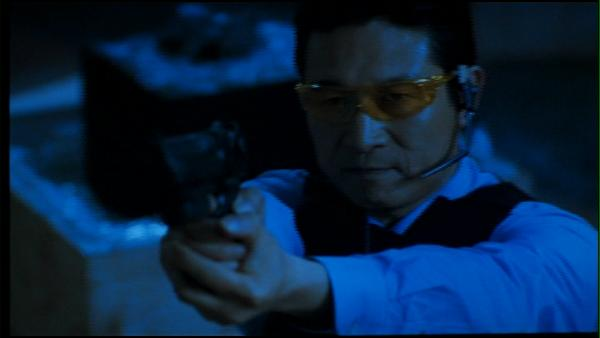Gun: (150, 120, 251, 220)
